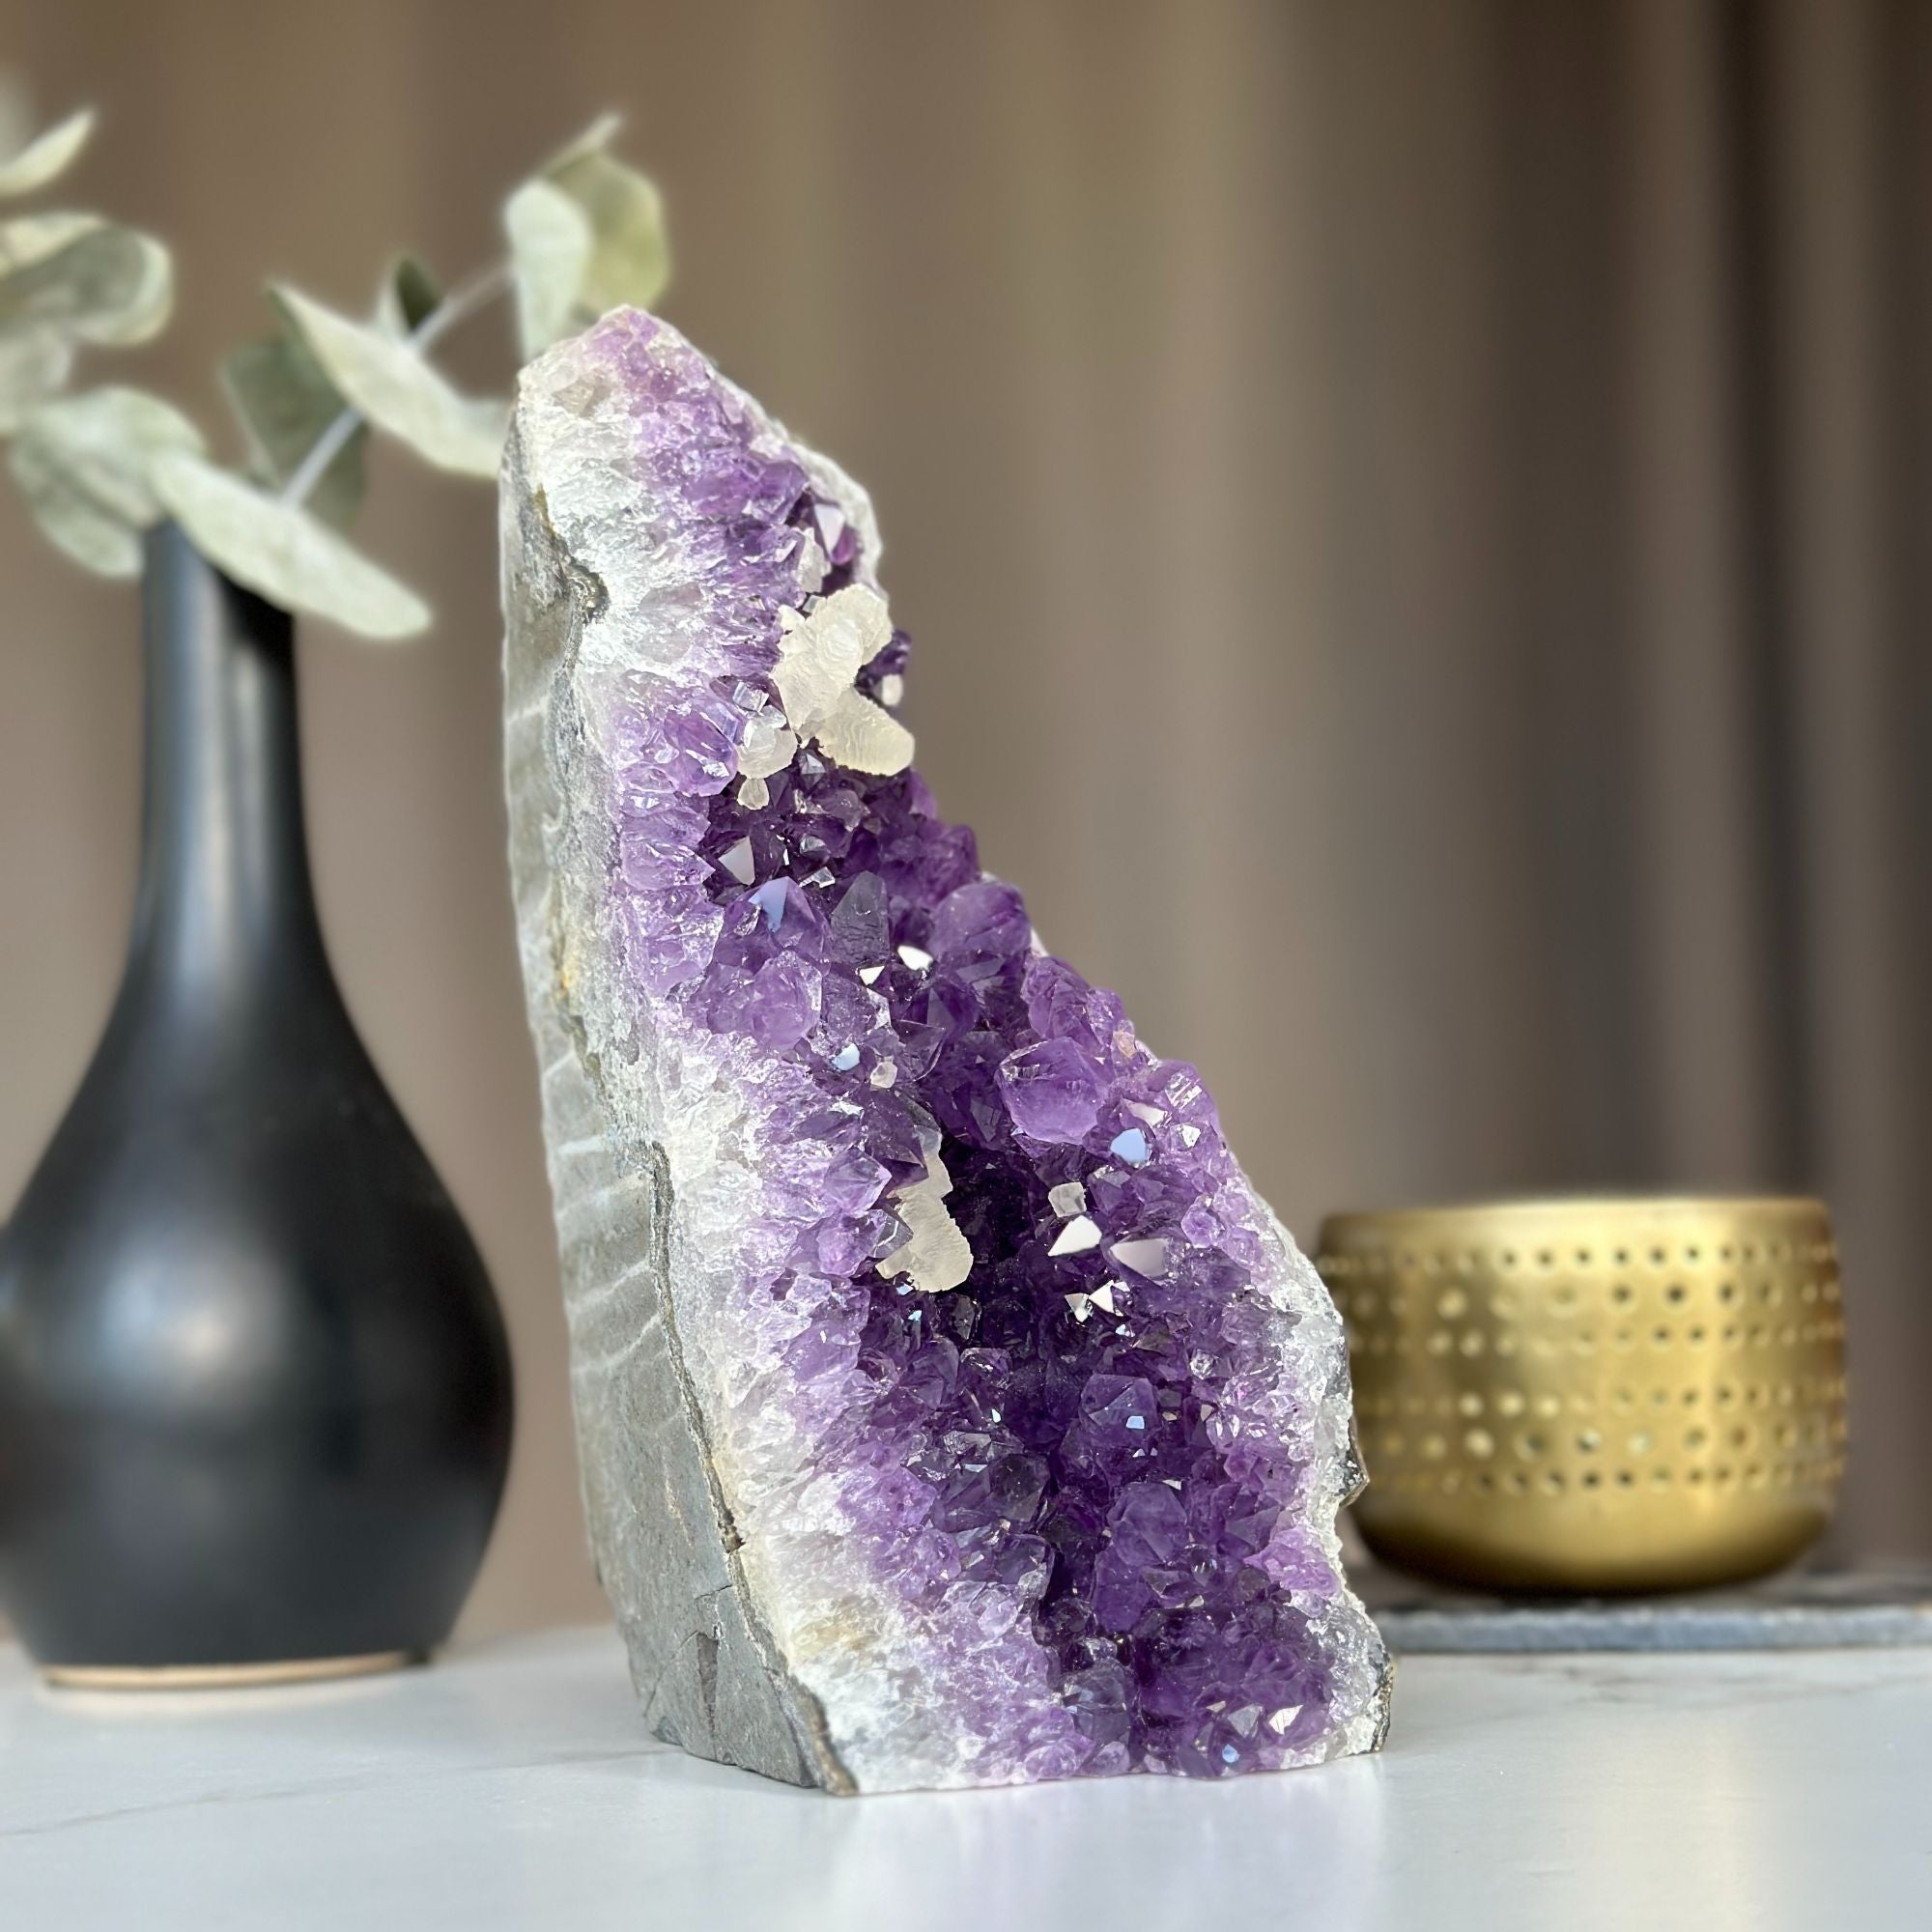Amethyst: (487, 295, 1399, 1806)
